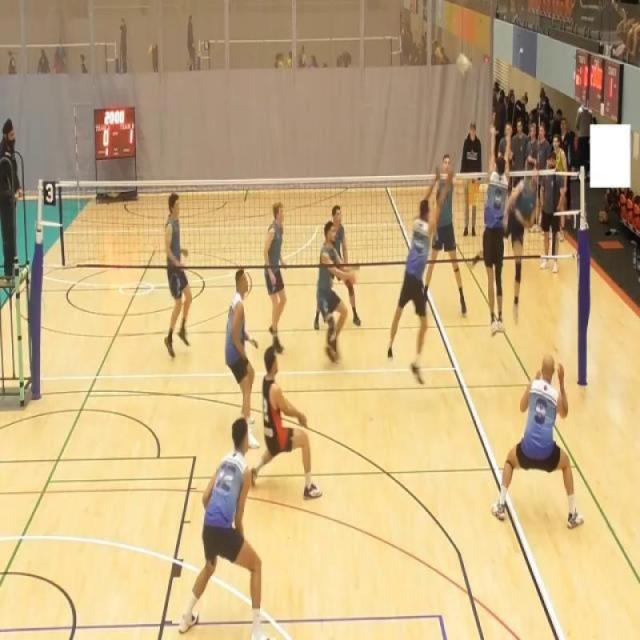volleyball: (456, 52, 473, 78)
